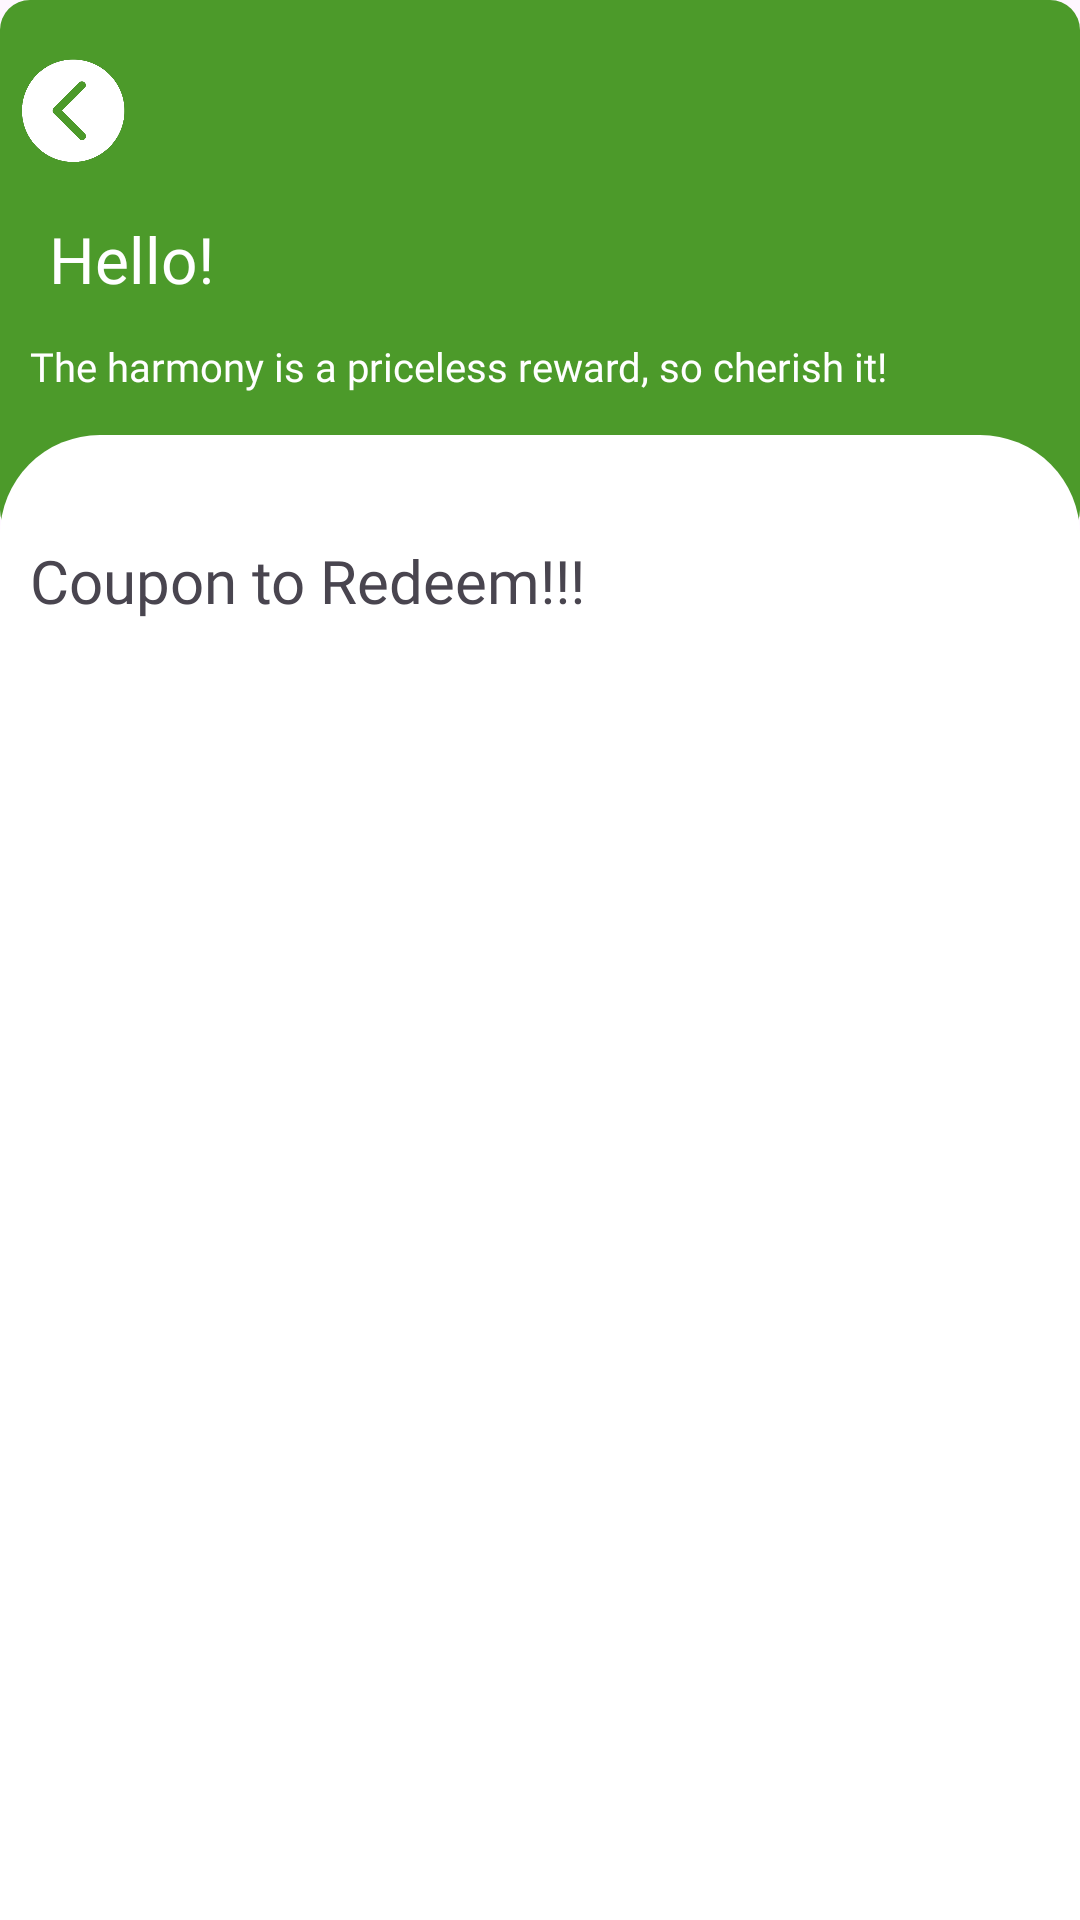

Where icons sit on this 1080x1920 app screen, as Rect(x1, y1, x2, y2):
Back Button: Rect(22, 59, 125, 162)
